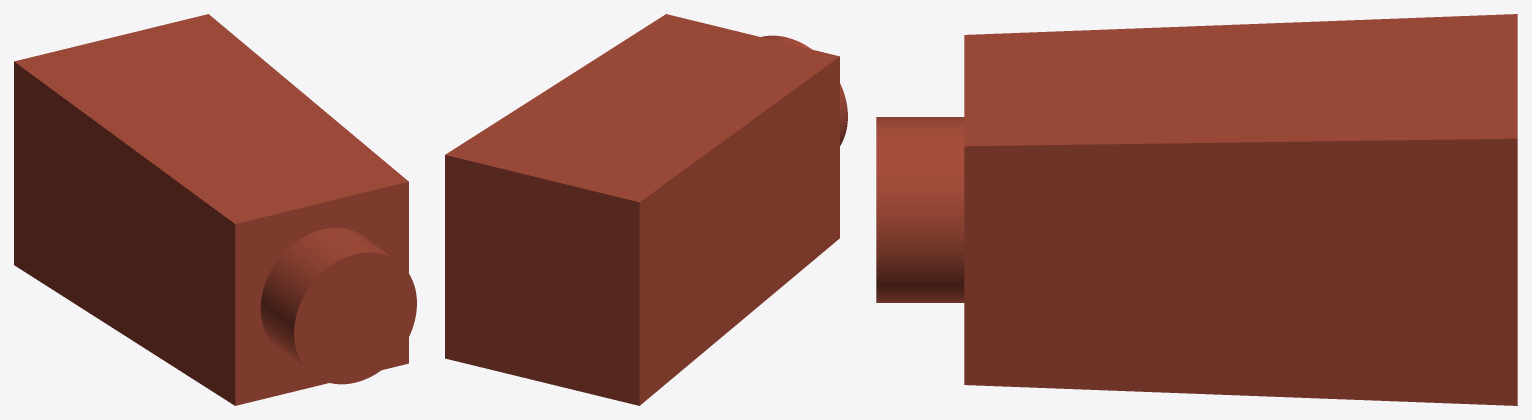
The picture shows the model from 3 angles, left to right: view 1: azimuth 30°, elevation 25°; view 2: azimuth 150°, elevation 25°; view 3: azimuth 270°, elevation 25°; orthographic projection. The views are drawn at different scales.
Visible parts, largest first — view 1: node; view 2: node; view 3: node.
Part boxes in pixels (<box>): node: <box>14,14,416,405</box>; node: <box>445,14,847,405</box>; node: <box>876,14,1517,405</box>.
Bounding box in the file's own units: 0.08 × 0.08 × 0.1738.
